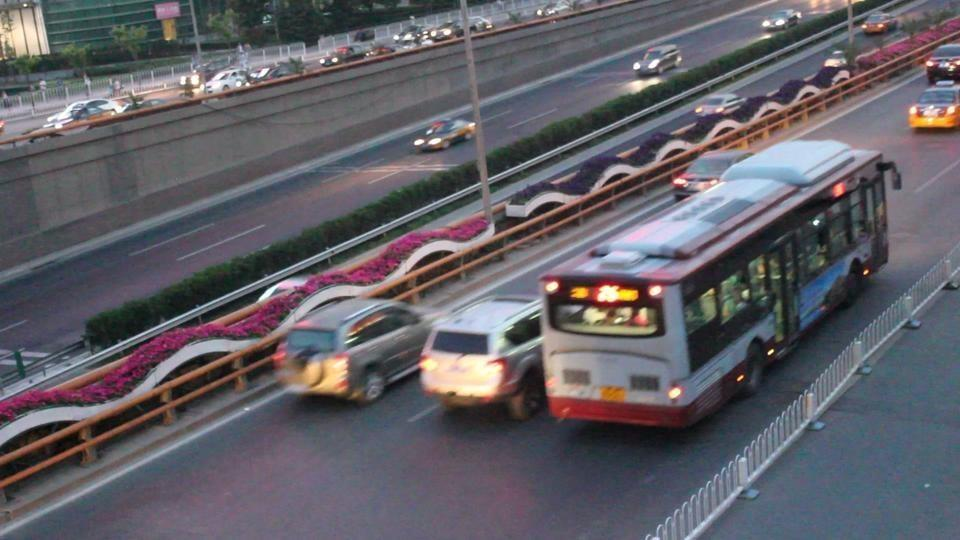car: (271, 298, 445, 404), (418, 295, 547, 422), (504, 152, 647, 223), (670, 150, 752, 202), (32, 102, 115, 134), (906, 84, 960, 131), (412, 118, 477, 153), (691, 92, 754, 119), (923, 42, 960, 85), (633, 44, 682, 76), (63, 99, 121, 121), (202, 71, 250, 96), (321, 45, 370, 66), (761, 9, 800, 31), (862, 16, 895, 36)
